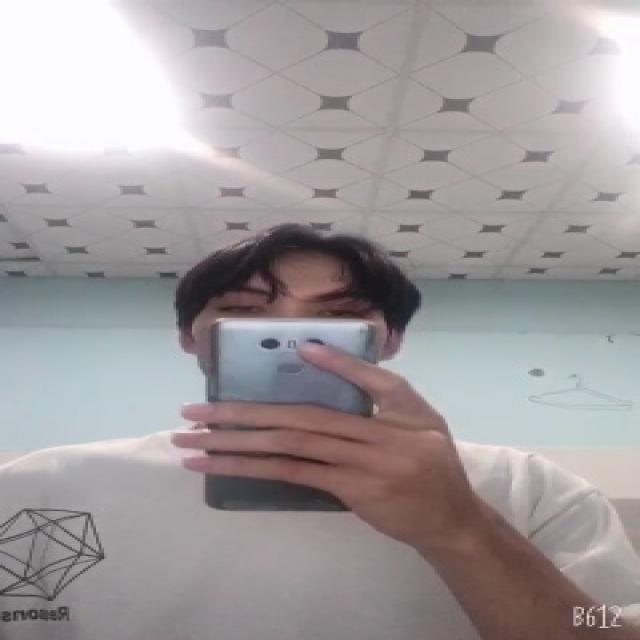Phone: (206, 319, 376, 513)
